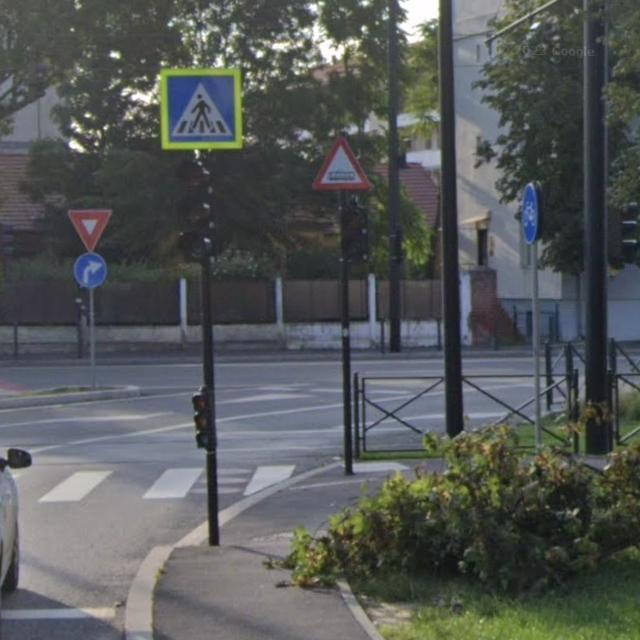info_crosswalk: (159, 70, 242, 151)
prio_give_way: (67, 208, 114, 253)
